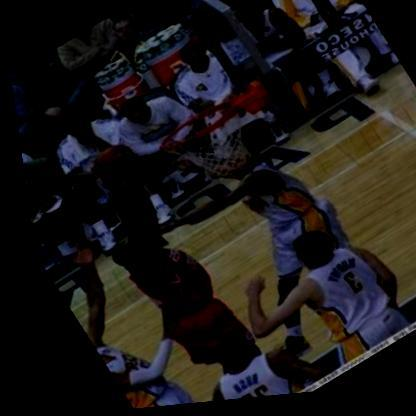basketball: (79, 136, 137, 189)
